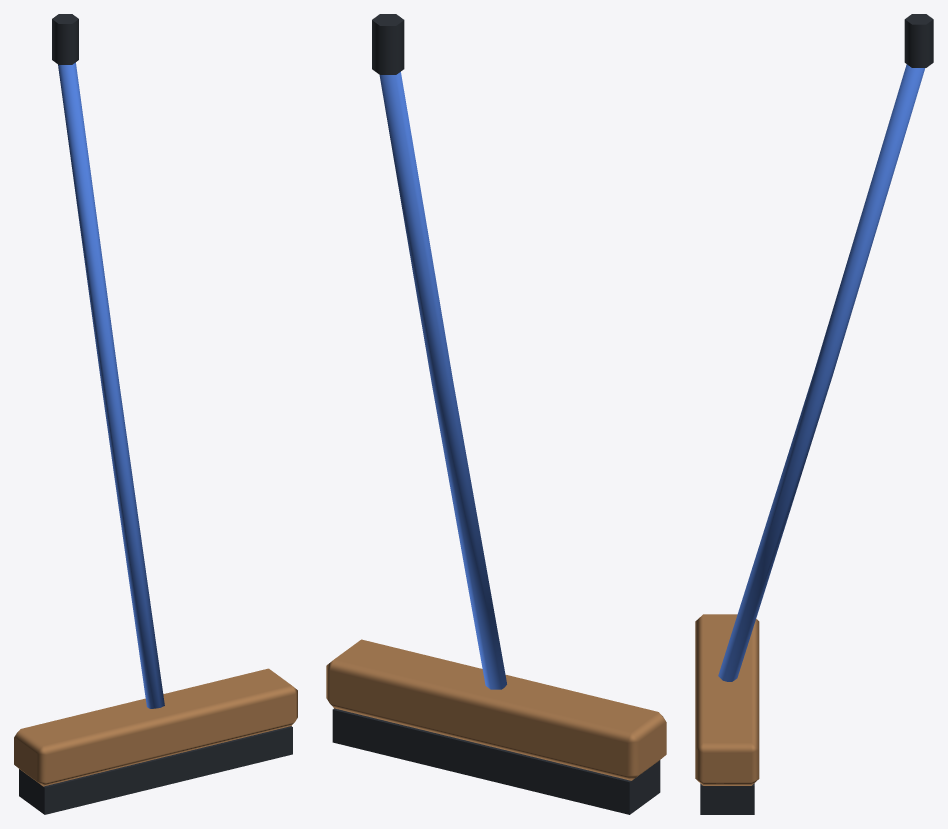
The model's file is CM_Interior_Broom.fbx.
3 renders of one model, left to right at view 1: azimuth 30°, elevation 25°; view 2: azimuth 150°, elevation 25°; view 3: azimuth 270°, elevation 25°, orthographic. The views are drawn at different scales.
Visible parts, largest first — view 1: Body; view 2: Body; view 3: Body.
Part boxes in pixels (x1,y1,x2,y2): Body: [14, 14, 297, 814]; Body: [326, 14, 666, 814]; Body: [695, 14, 933, 814].
Bounding box in the file's own units: 2 × 1.49 × 5.05.
Materials: 1 (1 with a texture image).
